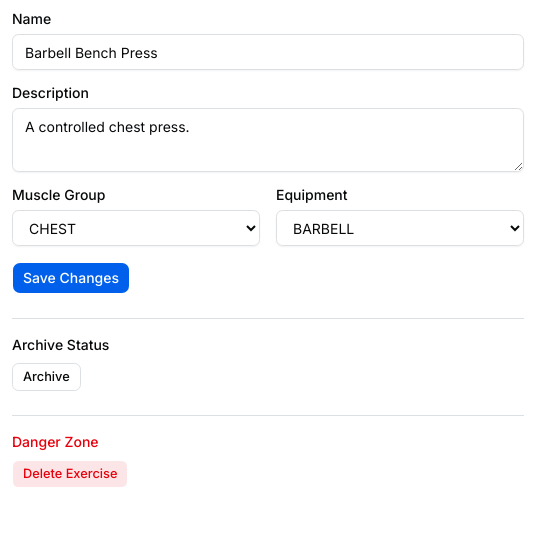
Test: EditExerciseForm › editExerciseForm_archiveFails_showsServerErrorAndDoesNotNavigate
The width and height of the screenshot is (541, 558).
Click the button "Archive" at (46, 377), box [12, 363, 81, 391]
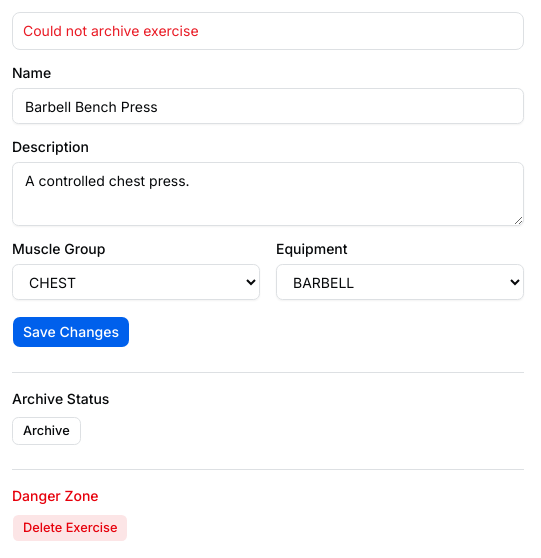
Expected: the text "Could not archive exercise" is shown, [23, 22, 199, 39]
